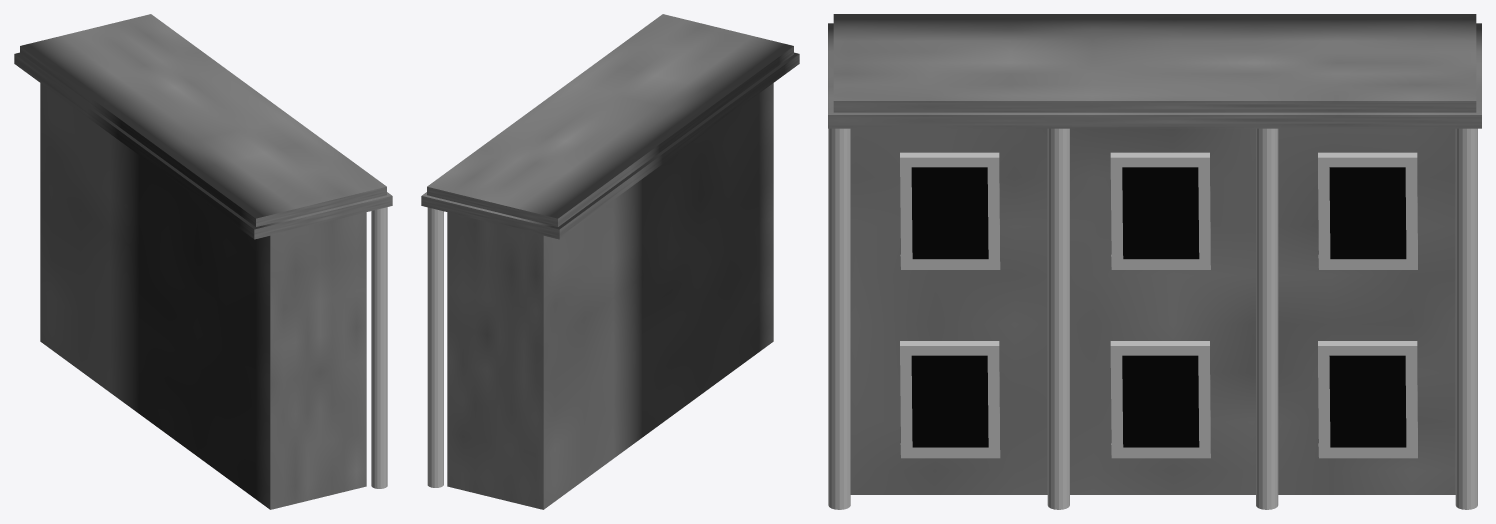
The model's file is Building (Textured).fbx.
3 views of the same model, side by side, from view 1: azimuth 30°, elevation 25°; view 2: azimuth 150°, elevation 25°; view 3: azimuth 270°, elevation 25° (orthographic). The views are drawn at different scales.
Visible parts, largest first — view 1: MainStructure, Pillars; view 2: MainStructure, Pillars; view 3: MainStructure, Window Panes, Pillars, Windows.
Part boxes in pixels (x1,y1,x2,y2): MainStructure: (14, 14, 392, 509); Pillars: (371, 207, 387, 488); MainStructure: (421, 14, 799, 509); Pillars: (427, 207, 443, 487); MainStructure: (828, 14, 1481, 494); Window Panes: (911, 167, 1406, 447); Pillars: (828, 128, 1477, 509); Windows: (900, 152, 1417, 458).
Bounding box in the file's own units: 287 × 594 × 864.
